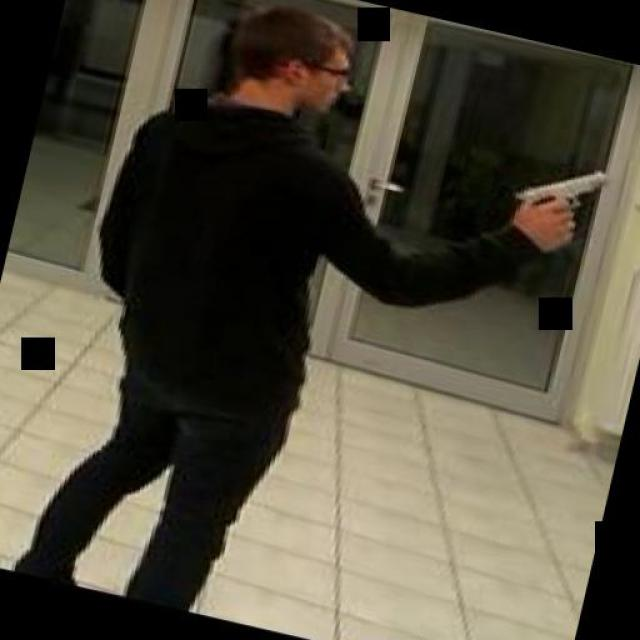gun: (499, 147, 610, 245)
